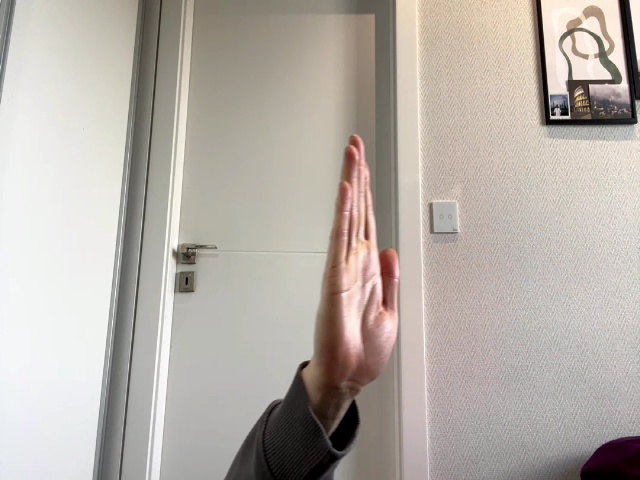SZ: (316, 135, 399, 393)
